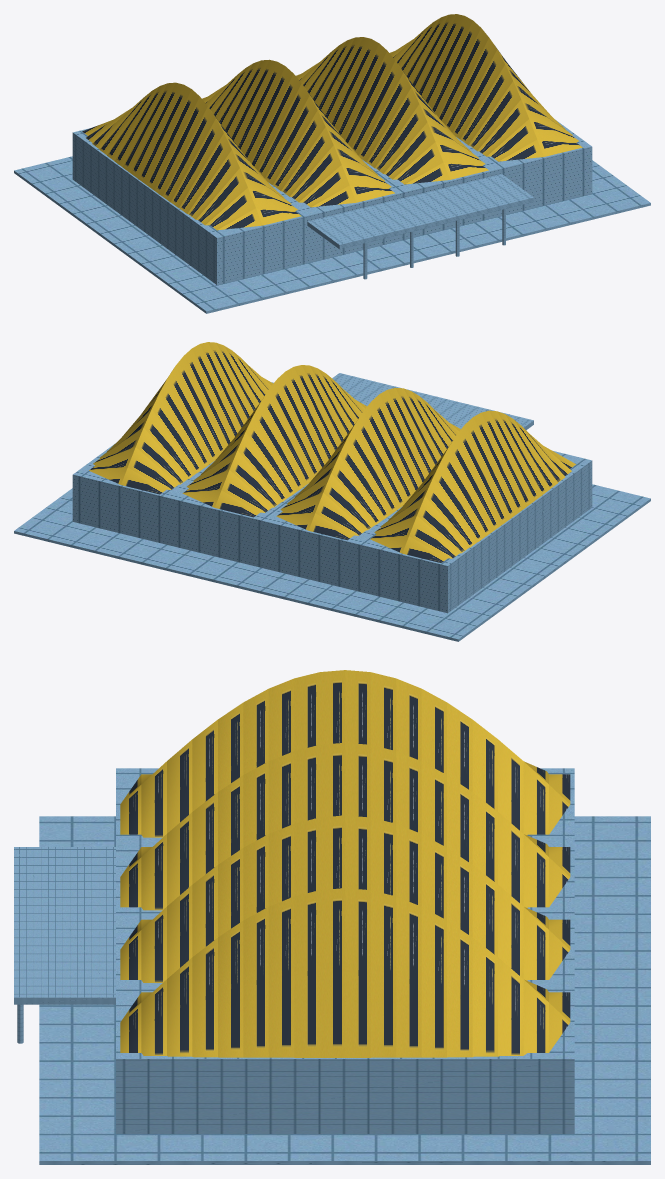
3 renders of one model, top to bottom at view 1: azimuth 30°, elevation 25°; view 2: azimuth 150°, elevation 25°; view 3: azimuth 270°, elevation 25°, orthographic. The views are drawn at different scales.
Visible parts, largest first — view 1: 28185_01_21998_003_02_lod2__shell_roof, 28185_01_21998_003_03_lod2__glass_mass, 28185_01_21998_003_01_lod2__plaza_base, 28185_01_21998_003_04_lod2__canopy; view 2: 28185_01_21998_003_02_lod2__shell_roof, 28185_01_21998_003_03_lod2__glass_mass, 28185_01_21998_003_01_lod2__plaza_base, 28185_01_21998_003_04_lod2__canopy; view 3: 28185_01_21998_003_02_lod2__shell_roof, 28185_01_21998_003_01_lod2__plaza_base, 28185_01_21998_003_03_lod2__glass_mass, 28185_01_21998_003_04_lod2__canopy.
Part boxes in pixels (x1,y1,x2,y2): 28185_01_21998_003_02_lod2__shell_roof: (82,14,582,230); 28185_01_21998_003_03_lod2__glass_mass: (72,119,592,285); 28185_01_21998_003_01_lod2__plaza_base: (14,156,650,313); 28185_01_21998_003_04_lod2__canopy: (307,174,533,279); 28185_01_21998_003_02_lod2__shell_roof: (89,342,575,562); 28185_01_21998_003_03_lod2__glass_mass: (72,382,592,613); 28185_01_21998_003_01_lod2__plaza_base: (14,484,650,641); 28185_01_21998_003_04_lod2__canopy: (332,373,533,430); 28185_01_21998_003_02_lod2__shell_roof: (120,670,570,1057); 28185_01_21998_003_01_lod2__plaza_base: (39,816,650,1164); 28185_01_21998_003_03_lod2__glass_mass: (116,768,574,1133); 28185_01_21998_003_04_lod2__canopy: (14,847,115,1043).
Bounding box in the file's own units: 64 × 18.5 × 50.
4 materials, 4 textured.
